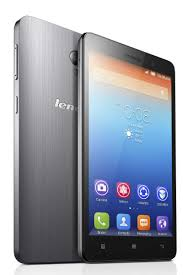lenovo: (78, 30, 175, 264)
